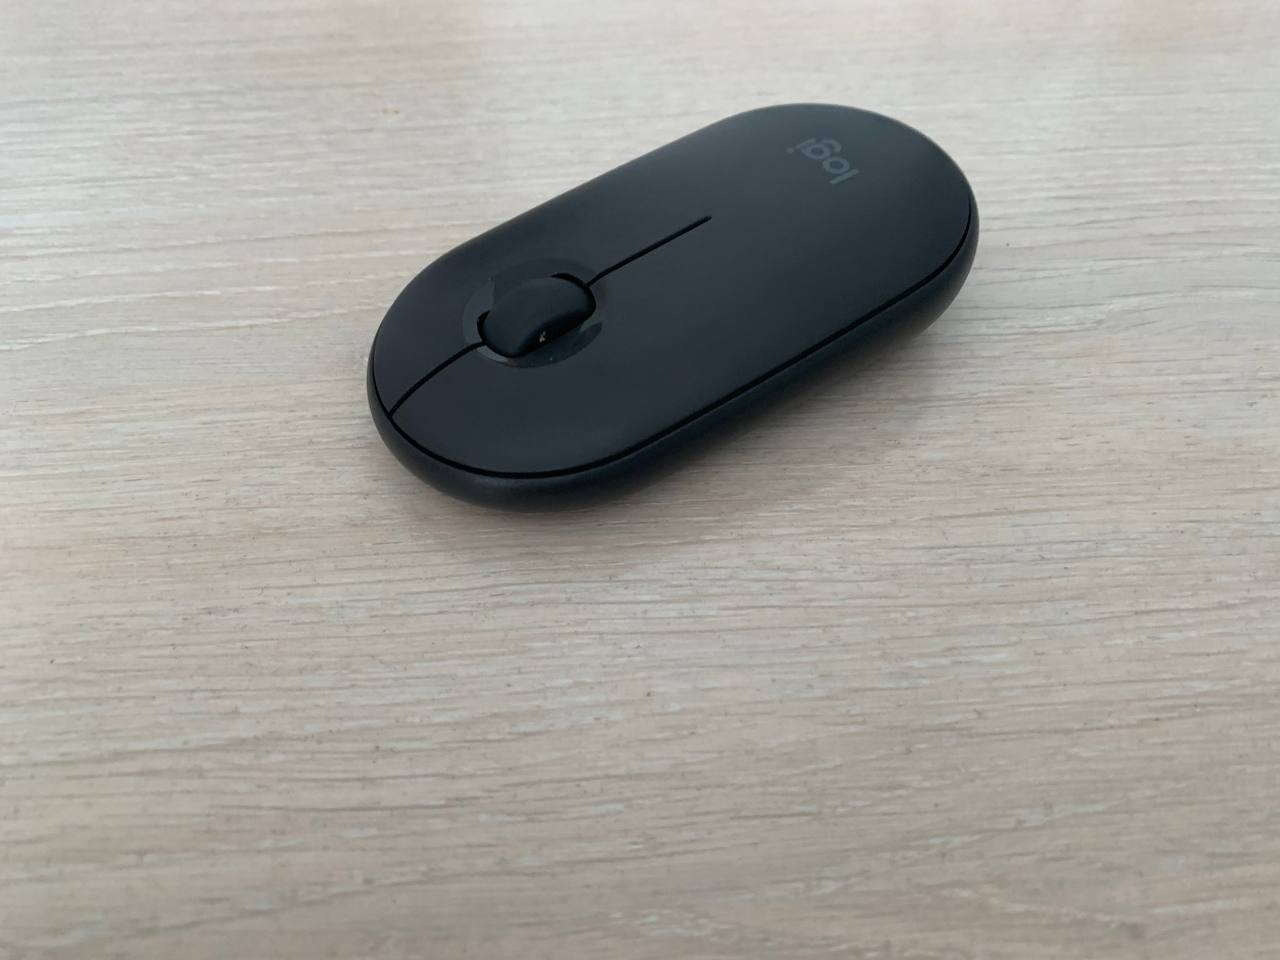mouse: (367, 104, 979, 507)
